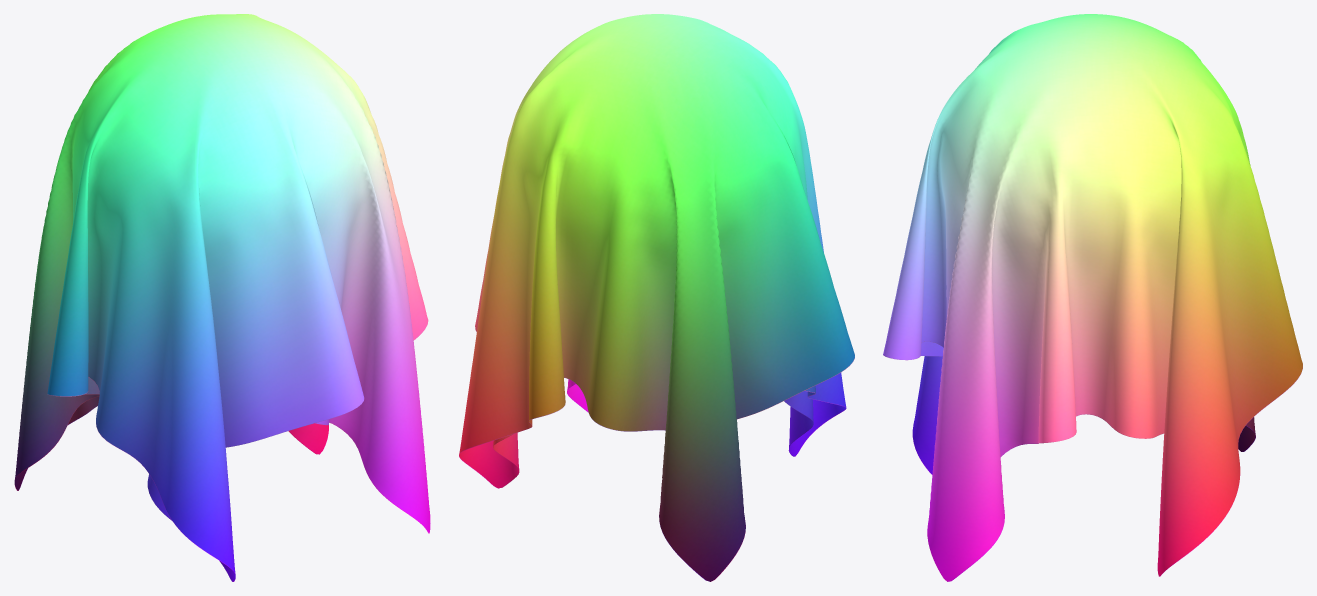
The model's file is FabricBase.glb.
3 renders of one model, left to right at view 1: azimuth 30°, elevation 25°; view 2: azimuth 150°, elevation 25°; view 3: azimuth 270°, elevation 25°, orthographic. The views are drawn at different scales.
Parts seen in each view (by area): view 1: Cloth; view 2: Cloth; view 3: Cloth.
Part boxes in pixels (x1,y1,x2,y2): Cloth: [14, 14, 430, 581]; Cloth: [459, 14, 854, 581]; Cloth: [883, 14, 1302, 581].
Size of the model in its own units: 2.21 by 2.74 by 2.14.
1 material, 1 textured.
